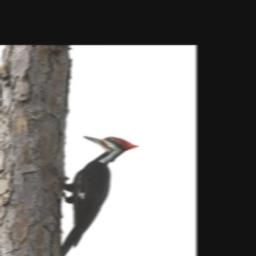Woodpecker: (61, 135, 141, 256)
